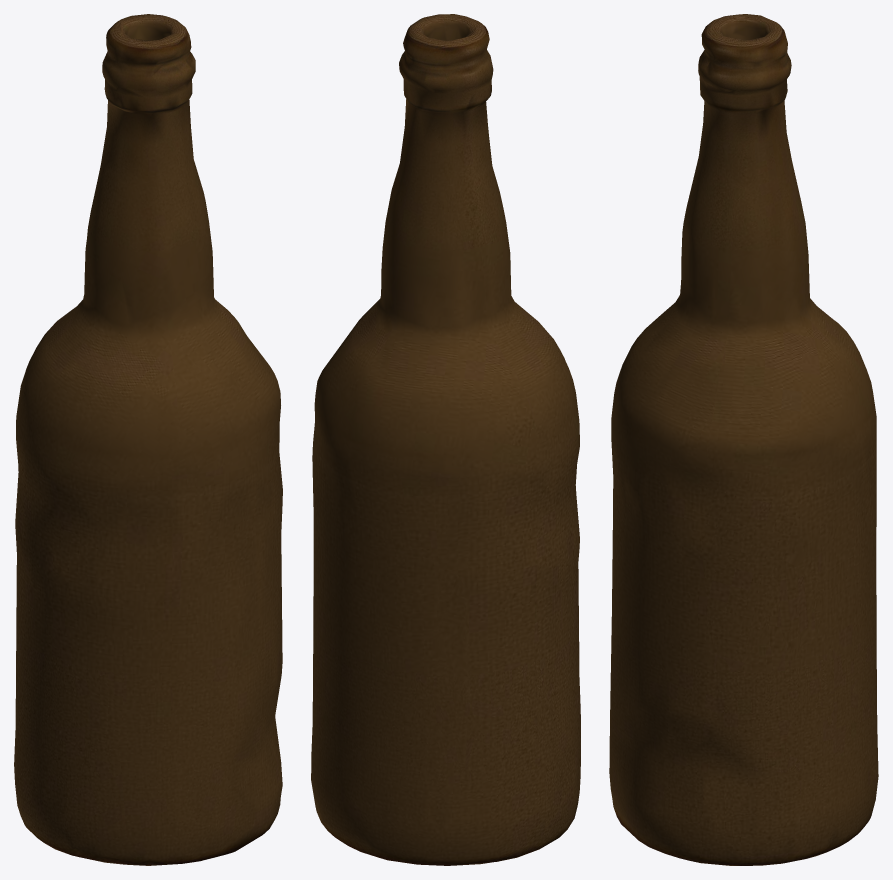
File: Brown_Bottle.glb
The picture shows the model from 3 angles, left to right: view 1: azimuth 30°, elevation 25°; view 2: azimuth 150°, elevation 25°; view 3: azimuth 270°, elevation 25°; orthographic projection.
Visible parts, largest first — view 1: tripo_node_951cec36-93b2-4376-95e7-fcfbefa6d62b; view 2: tripo_node_951cec36-93b2-4376-95e7-fcfbefa6d62b; view 3: tripo_node_951cec36-93b2-4376-95e7-fcfbefa6d62b.
Boxes of the visible parts, bbox=[...] form: tripo_node_951cec36-93b2-4376-95e7-fcfbefa6d62b: bbox=[14, 14, 282, 865]; tripo_node_951cec36-93b2-4376-95e7-fcfbefa6d62b: bbox=[311, 14, 580, 865]; tripo_node_951cec36-93b2-4376-95e7-fcfbefa6d62b: bbox=[609, 14, 878, 865].
Size of the model in its own units: 0.3053 by 0.9792 by 0.3042.
1 material, 1 textured.
